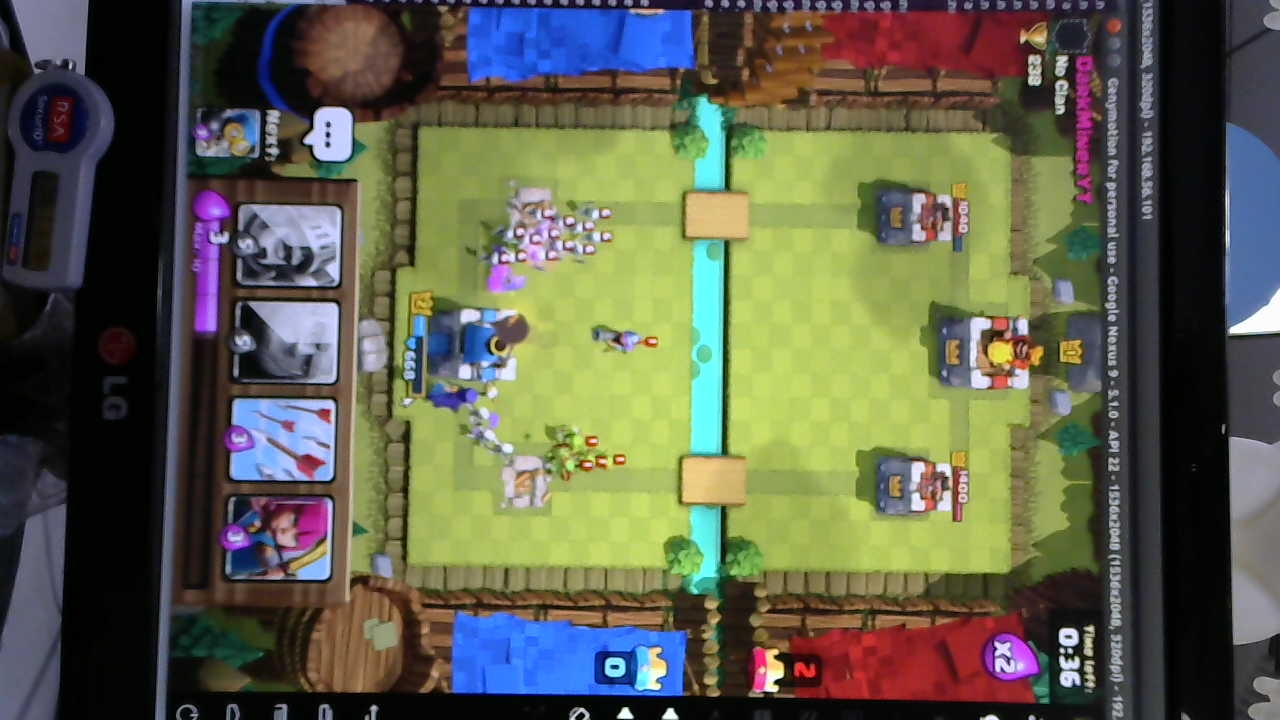darena: (492, 449, 555, 516)
earena: (874, 449, 954, 518), (871, 185, 954, 250)
eking: (930, 312, 1037, 391)
king: (426, 302, 516, 380)
musketeer: (594, 328, 646, 356)
skeletonarmy: (485, 200, 617, 271)
speargoblins: (552, 429, 625, 482)
witch: (427, 382, 501, 411)
